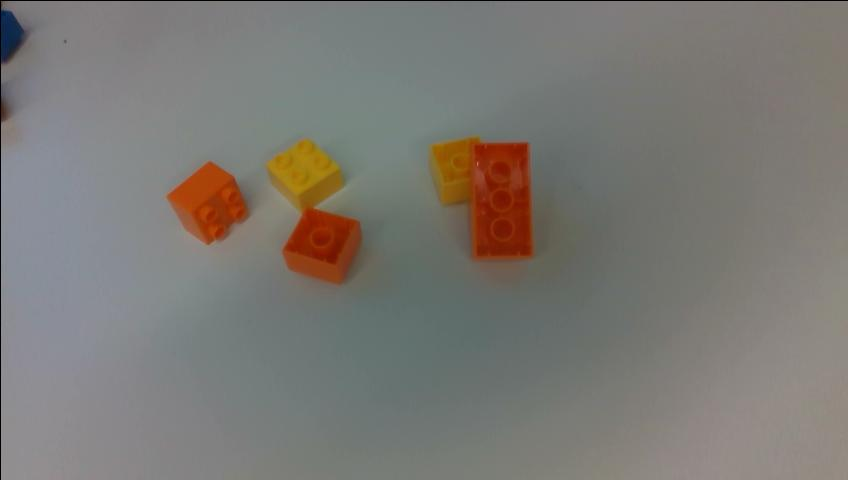2x2_orange: (167, 162, 247, 244), (281, 208, 361, 284)
2x2_yellow: (266, 139, 342, 211), (429, 139, 480, 203)
4x2_orange: (472, 143, 530, 257)
